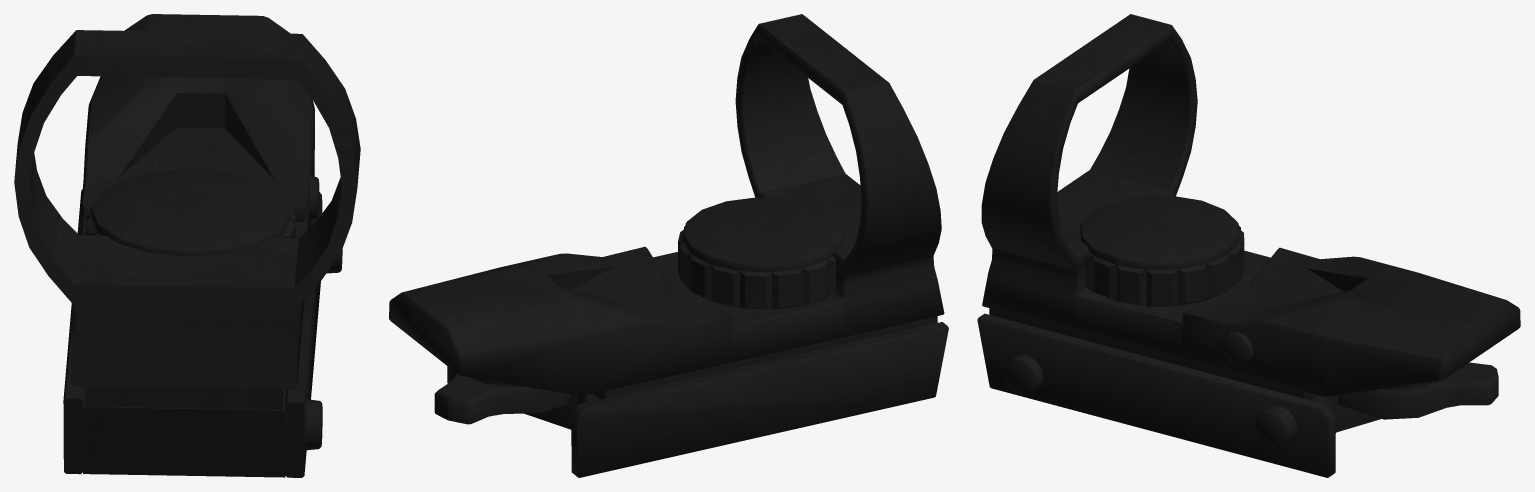
The picture shows the model from 3 angles, left to right: view 1: azimuth 30°, elevation 25°; view 2: azimuth 150°, elevation 25°; view 3: azimuth 270°, elevation 25°; orthographic projection. The views are drawn at different scales.
Parts seen in each view (by area): view 1: rd; view 2: rd; view 3: rd.
Part boxes in pixels (x1,y1,x2,y2): rd: (14,14,360,477); rd: (389,14,948,477); rd: (977,14,1520,477).
Size of the model in its own units: 2.47 by 1.95 by 3.01.
Materials: 1 (1 with a texture image).
